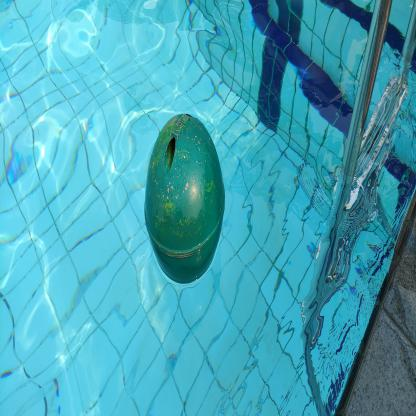green_buoy: (143, 108, 227, 293)
